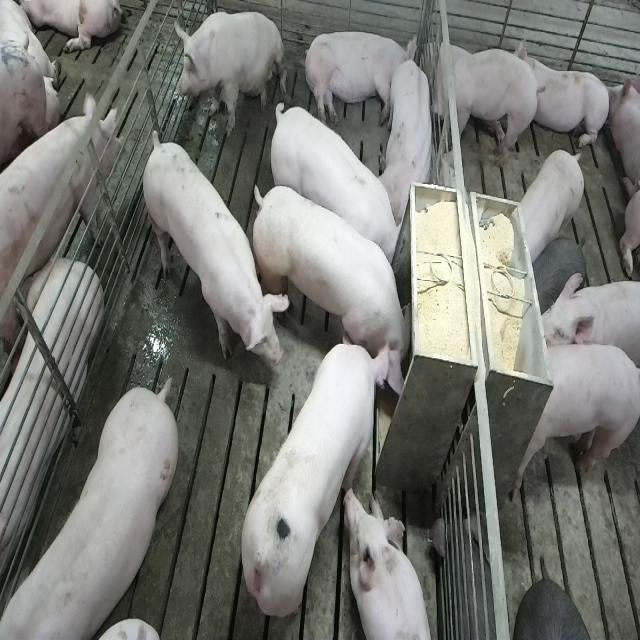Feeding: (238, 333, 392, 620), (255, 178, 420, 394)
Lateral_lying: (0, 261, 101, 608), (301, 28, 418, 128)
Sitting: (174, 7, 285, 138)
Standing: (0, 381, 176, 640), (138, 130, 284, 386), (0, 92, 121, 342), (265, 98, 400, 265), (514, 343, 639, 497), (419, 46, 542, 174), (537, 273, 640, 418), (515, 149, 587, 263), (532, 236, 590, 320)
Sternal_lying: (346, 489, 434, 640), (379, 52, 437, 226), (523, 38, 611, 152)
